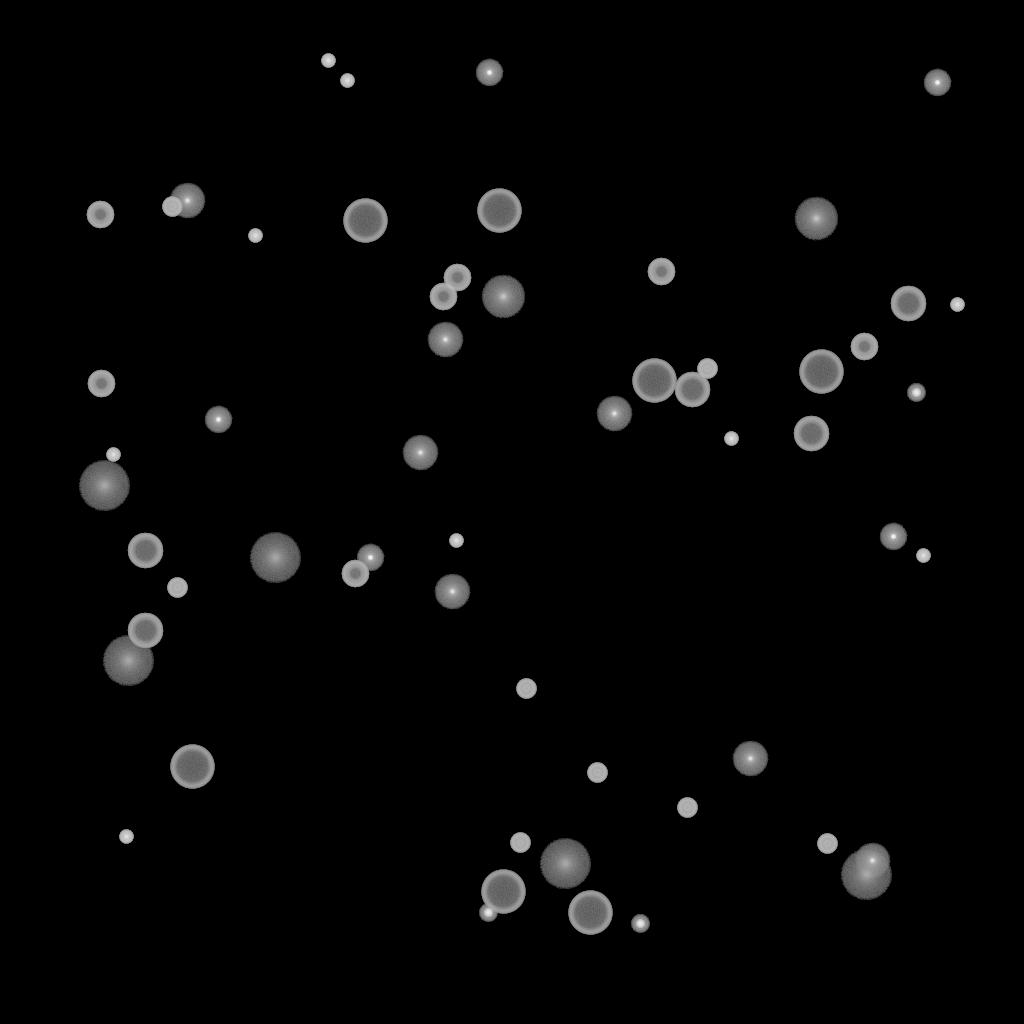depth:-10: (475, 59, 503, 87), (356, 544, 384, 572), (204, 406, 232, 434), (879, 523, 907, 551), (923, 69, 951, 97)
depth:-20: (479, 904, 497, 922), (907, 384, 925, 402), (631, 915, 649, 933)
depth:-30: (119, 830, 133, 844), (321, 54, 335, 68), (106, 448, 120, 462), (340, 74, 354, 88), (248, 229, 262, 243), (449, 534, 463, 548), (950, 298, 964, 312), (916, 549, 930, 563), (724, 432, 738, 446)
depth:-40: (817, 834, 837, 854), (697, 359, 717, 379), (167, 578, 187, 598), (162, 197, 182, 217), (510, 833, 530, 853), (587, 763, 607, 783), (677, 798, 697, 818), (516, 679, 536, 699)
depth:-50: (341, 560, 369, 588), (86, 201, 114, 229), (429, 283, 457, 311), (443, 264, 471, 292), (647, 258, 675, 286), (850, 333, 878, 361), (87, 370, 115, 398)
depth:-60: (793, 416, 829, 452), (674, 372, 710, 408), (127, 613, 163, 649), (890, 286, 926, 322), (127, 533, 163, 569)
depth:-70: (632, 359, 676, 403), (477, 189, 521, 233), (170, 745, 214, 789), (343, 199, 387, 243), (568, 891, 612, 935), (799, 350, 843, 394), (481, 870, 525, 914)
depth:0: (427, 322, 463, 358), (854, 843, 890, 879), (434, 574, 470, 610), (732, 741, 768, 777), (169, 183, 205, 219), (596, 396, 632, 432), (402, 435, 438, 471)
depth:10: (481, 275, 525, 319), (794, 197, 838, 241)
depth:20: (539, 839, 591, 889), (249, 533, 301, 583), (102, 636, 154, 686), (840, 850, 892, 900), (78, 461, 130, 511)
